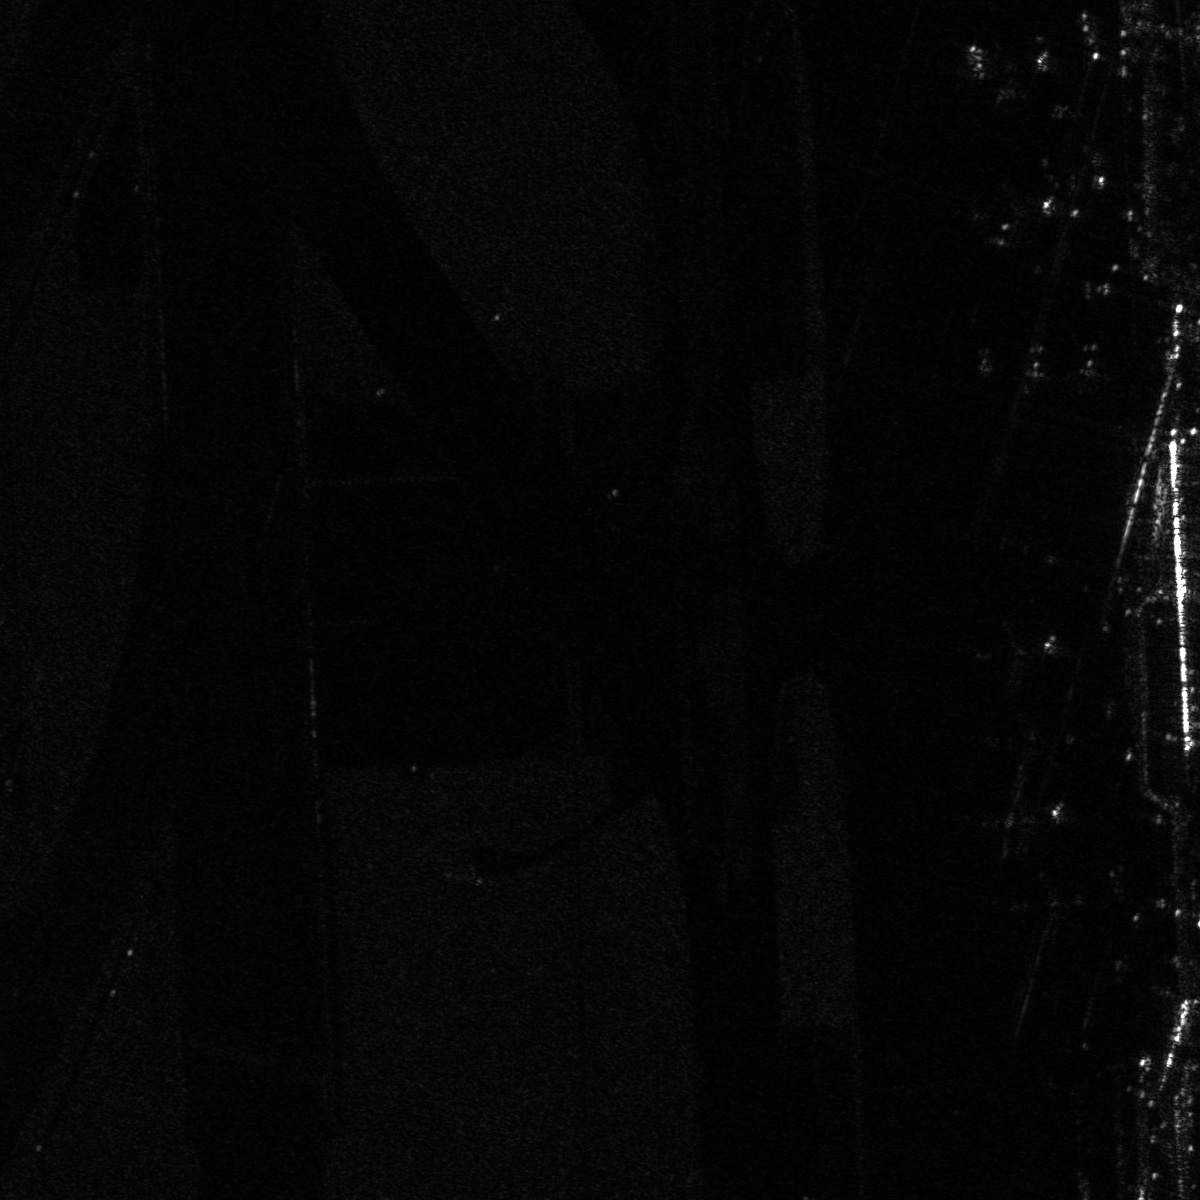A220: (965, 768, 1075, 862), (965, 621, 1064, 686)
ARJ21: (1013, 869, 1090, 943)
other: (1067, 343, 1111, 397), (1019, 346, 1055, 395)
